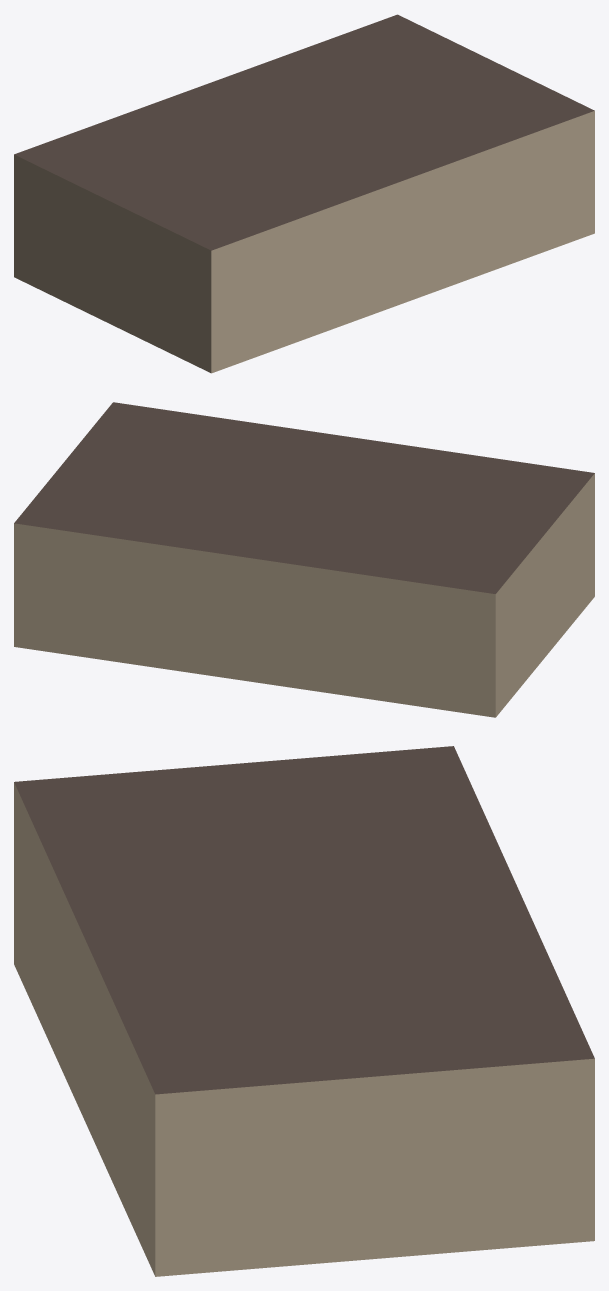
The picture shows the model from 3 angles, top to bottom: view 1: azimuth 30°, elevation 25°; view 2: azimuth 150°, elevation 25°; view 3: azimuth 270°, elevation 25°; orthographic projection. The views are drawn at different scales.
Parts seen in each view (by area): view 1: HP-w1331503651; view 2: HP-w1331503651; view 3: HP-w1331503651.
Part boxes in pixels (x1,y1,x2,y2): HP-w1331503651: (14, 14, 594, 373); HP-w1331503651: (14, 402, 594, 717); HP-w1331503651: (14, 746, 594, 1276).
Bounding box in the file's own units: 36.87 × 9 × 25.98.
